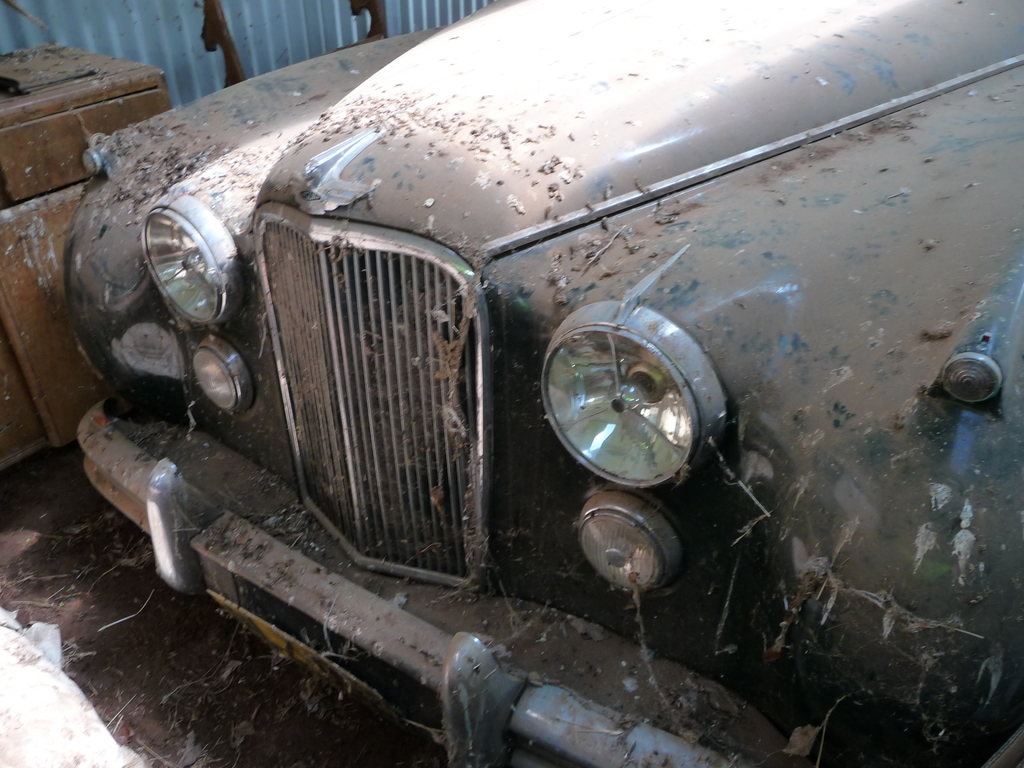Car: (63, 0, 1023, 767)
